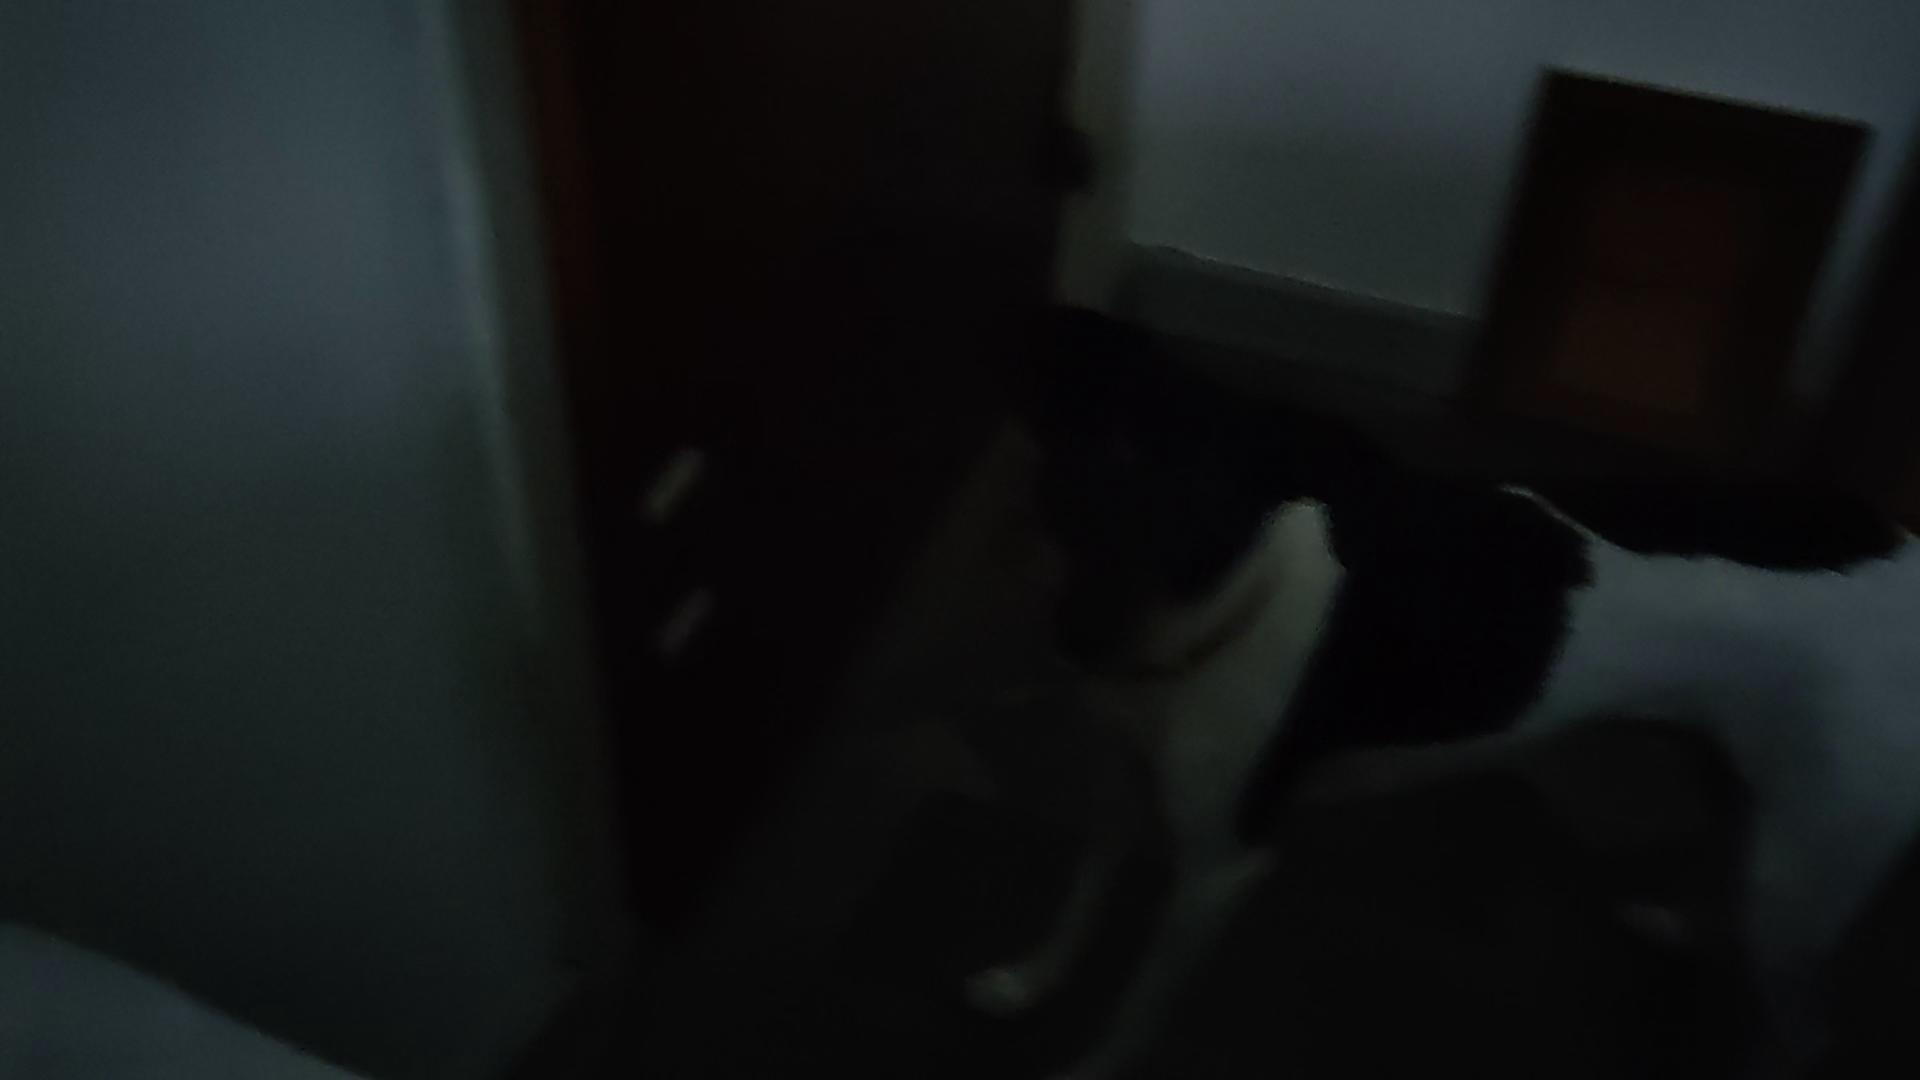Dog: (944, 289, 1919, 1079)
